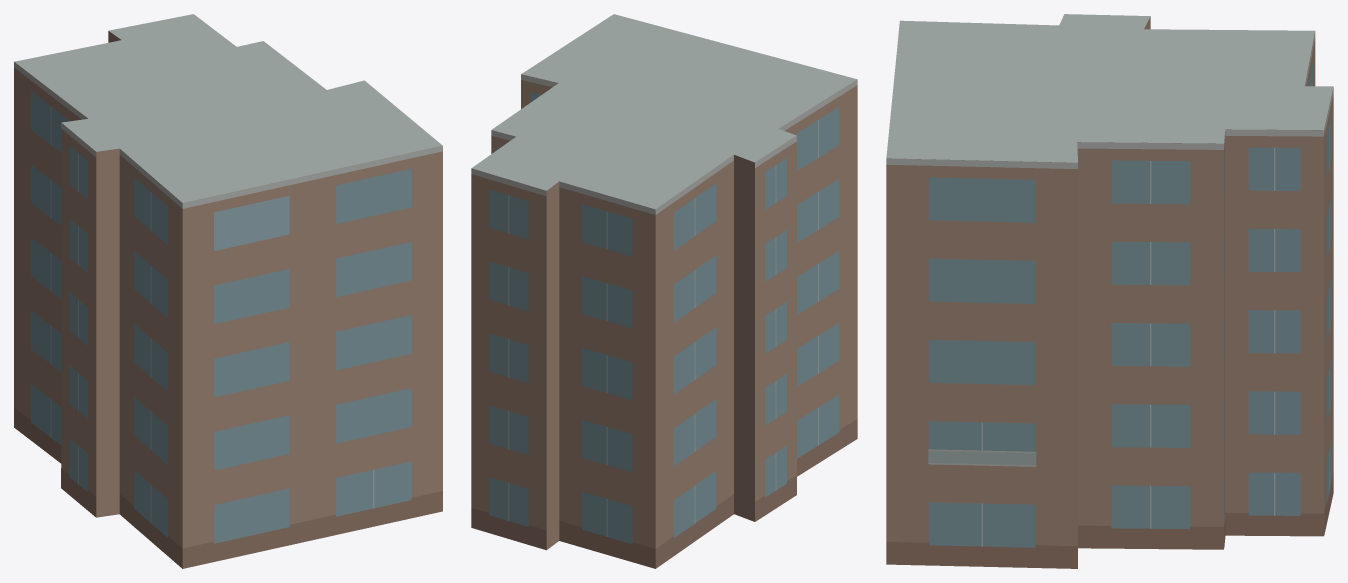
Rendered from survey-upis-32885375.glb.
3 renders of one model, left to right at view 1: azimuth 30°, elevation 25°; view 2: azimuth 150°, elevation 25°; view 3: azimuth 270°, elevation 25°, orthographic. The views are drawn at different scales.
Parts seen in each view (by area): view 1: survey-upis-32885375.tmp; view 2: survey-upis-32885375.tmp; view 3: survey-upis-32885375.tmp.
Boxes of the visible parts, x1,y1,x2,y2 form: survey-upis-32885375.tmp: [14, 14, 442, 568]; survey-upis-32885375.tmp: [471, 14, 857, 568]; survey-upis-32885375.tmp: [886, 14, 1333, 568].
Bounding box in the file's own units: 12.1 × 15.4 × 15.38.
